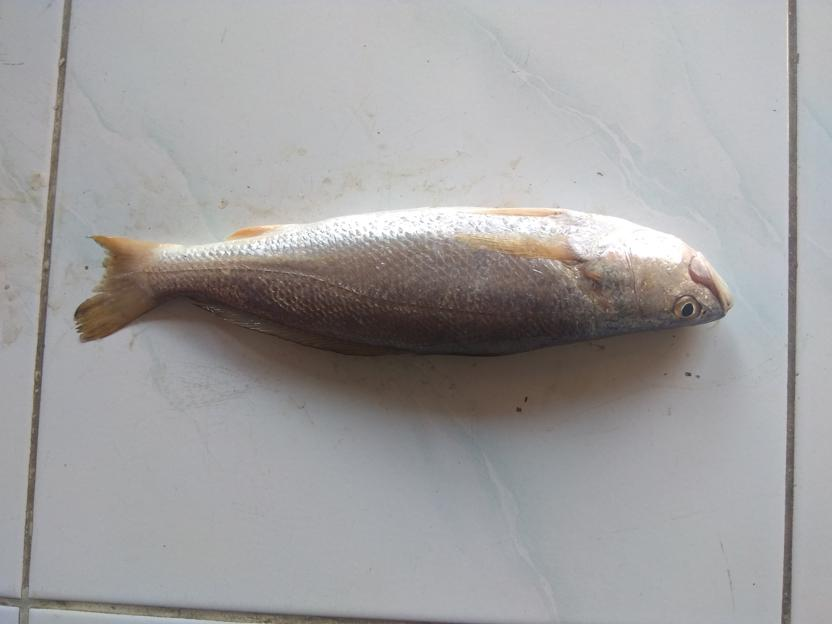Fish head: (583, 207, 735, 341)
Fish tail: (72, 233, 168, 345)
